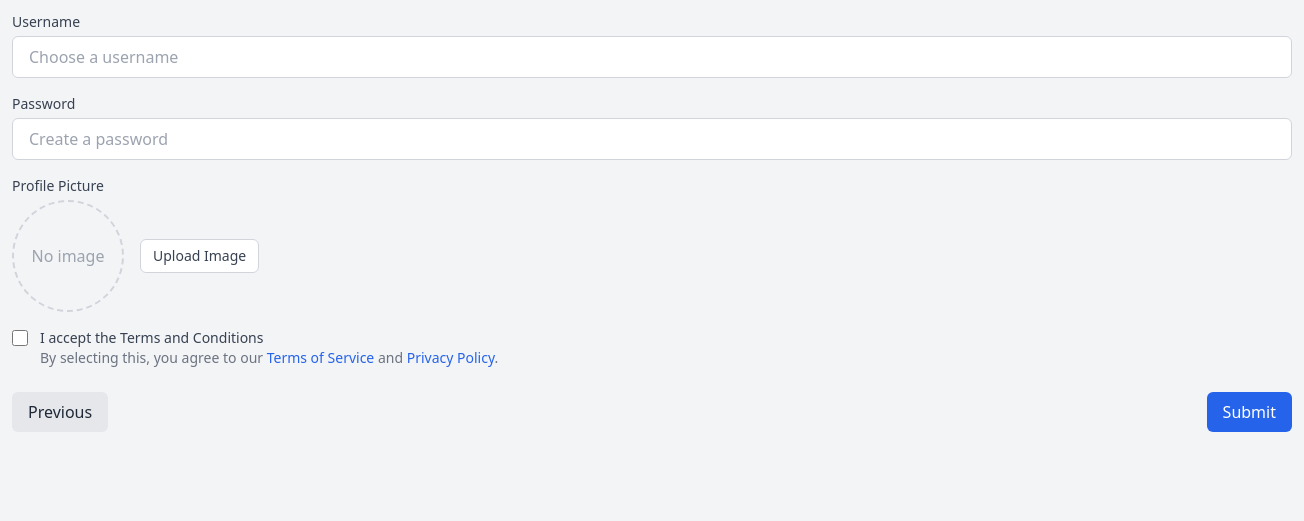
Test case: AccountSetupForm › clicking Submit with step 3 empty shows every missing field and focuses the first
Click the button "Submit" at (1249, 412), box [1207, 392, 1292, 432]
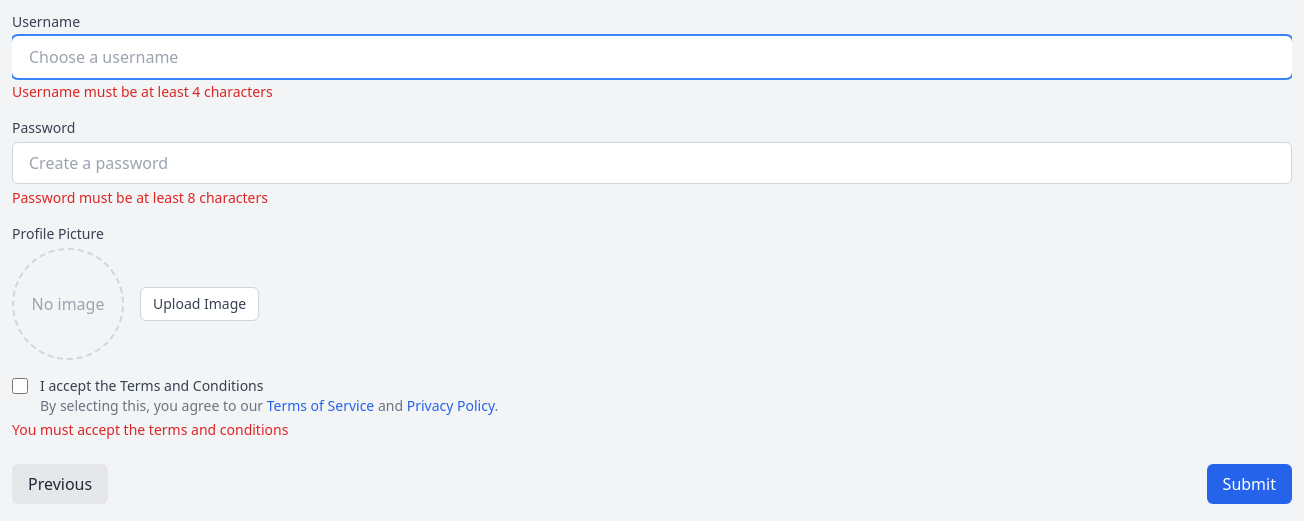
Expected: the text "Username must be at least 4 characters" is shown, [12, 82, 273, 101]
Expected: the text "Password must be at least 8 characters" is shown, [12, 188, 268, 207]
Expected: the text "You must accept the terms and conditions" is shown, [12, 420, 288, 439]
